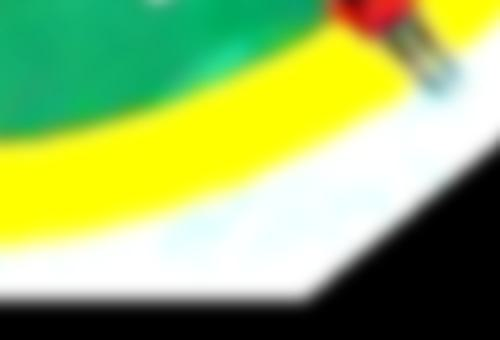Apron: (1, 1, 499, 251)
